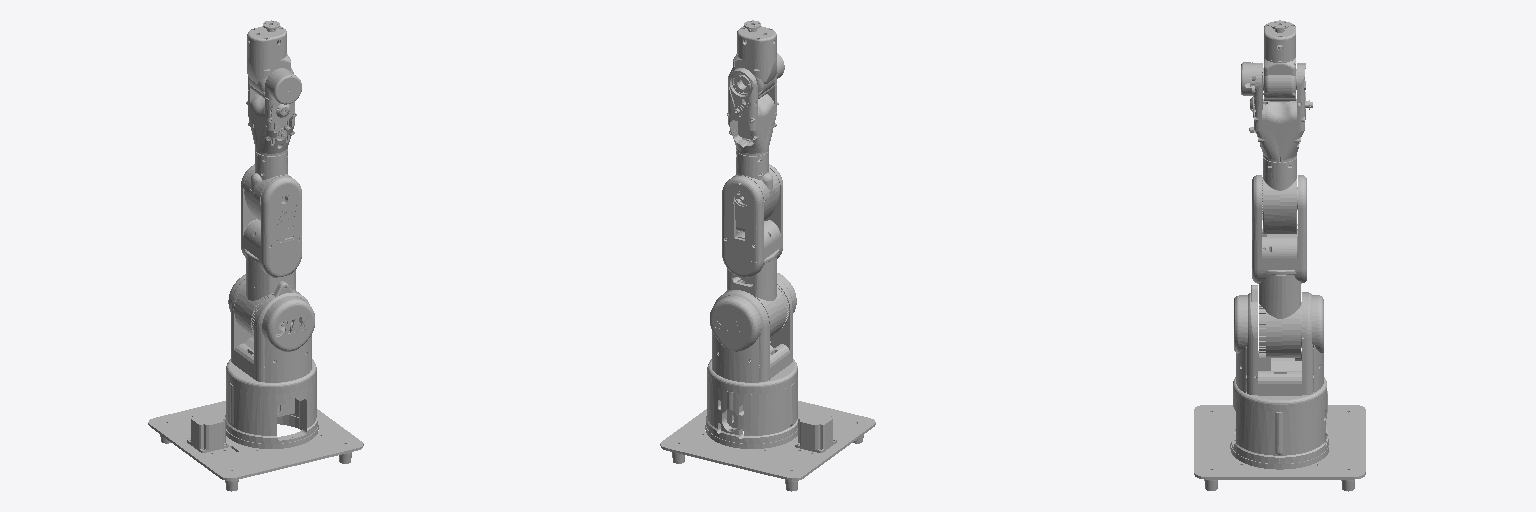
The robot description file, URDF, robot "tgr_arm":
<?xml version="1.0"?>
<robot name="tgr_arm">
    <link name="link0">
        <visual>
            <origin xyz="0 0 0" rpy="0 0 0.078" />
            <geometry>
                <mesh filename="package://tgr_arm_description/meshes/link0.STL" />
            </geometry>
            <material name="gray">
                <color rgba="0.75 0.75 0.75 1"/>
            </material>
        </visual>
        <collision>
            <origin xyz="0 0 0" rpy="0 0 0.078" />
            <geometry>
                <mesh filename="package://tgr_arm_description/meshes/link0.STL" />
            </geometry>
        </collision>
    </link>

    <joint name="joint0" type="revolute">
        <origin xyz="0 0 0" rpy="0 0 0"/>
        <axis xyz="0 0 1"/>
        <limit lower="-3.1415926" upper="3.1415926" effort="100" velocity="1.5708" />
        <parent link="link0"/>
        <child link="link1"/>
    </joint>

    <link name="link1">
        <visual>
            <origin xyz="0 0 0" rpy="0 0 0" />
            <geometry>
                <mesh filename="package://tgr_arm_description/meshes/link1.STL" />
            </geometry>
            <material name="gray">
                <color rgba="0.75 0.75 0.75 1"/>
            </material>
        </visual>
        <collision>
            <origin xyz="0 0 0" rpy="0 0 0" />
            <geometry>
                <mesh filename="package://tgr_arm_description/meshes/link1.STL" />
            </geometry>
        </collision>
    </link>

    
    <joint name="joint1" type="revolute">
        <origin xyz="0 0 0.2609" rpy="0 0 0"/>
        <axis xyz="0 1 0"/>
        <limit lower="-3.1415926" upper="3.1415926" effort="100" velocity="1.5708" />
        <parent link="link1"/>
        <child link="link2"/>
    </joint>

    <link name="link2">
        <visual>
            <origin xyz="0 0.0032 0" rpy="1.5708 0 0" />
            <geometry>
                <mesh filename="package://tgr_arm_description/meshes/link2.STL" />
            </geometry>
            <material name="gray">
                <color rgba="0.75 0.75 0.75 1"/>
            </material>
        </visual>
        <collision>
            <origin xyz="0 0.0032 0" rpy="1.5708 0 0" />
            <geometry>
                <mesh filename="package://tgr_arm_description/meshes/link2.STL" />
            </geometry>
        </collision>
    </link>
    

    <joint name="joint2" type="revolute">
        <origin xyz="0 0 0.245" rpy="0 0 0"/>
        <axis xyz="0 1 0"/>
        <limit lower="-3.1415926" upper="3.1415926" effort="100" velocity="1.5708" />
        <parent link="link2"/>
        <child link="link3"/>
    </joint>

    <link name="link3">
        <visual>
            <origin xyz="0 0 0" rpy="1.5708 -1.5968 0" />
            <geometry>
                <mesh filename="package://tgr_arm_description/meshes/link3.STL" />
            </geometry>
            <material name="gray">
                <color rgba="0.75 0.75 0.75 1"/>
            </material>
        </visual>
        <collision>
            <origin xyz="0 0 0" rpy="1.5708 -1.5968 0" />
            <geometry>
                <mesh filename="package://tgr_arm_description/meshes/link3.STL" />
            </geometry>
        </collision>
    </link>

    <joint name="joint3" type="revolute">
        <origin xyz="0 0 0.085" rpy="0 0 0"/>
        <axis xyz="0 0 1"/>
        <limit lower="-3.1415926" upper="3.1415926" effort="100" velocity="1.5708" />
        <parent link="link3"/>
        <child link="link4"/>
    </joint>

    <!-- <joint name="joint3" type="revolute">
        <origin xyz="0.085 0 0" rpy="0 0 0"/>
        <axis xyz="1 0 0"/>
        <limit lower="-3.1415926" upper="3.1415926" effort="100" velocity="1.5708" />
        <parent link="link3"/>
        <child link="link4"/>
    </joint> -->

    <link name="link4">
        <visual>
            <origin xyz="0  0 0.145" rpy="0 0 3.1415926" />
            <geometry>
                <mesh filename="package://tgr_arm_description/meshes/link4.STL" />
            </geometry>
            <material name="gray">
                <color rgba="0.75 0.75 0.75 1"/>
            </material>
        </visual>
        <collision>
            <origin xyz="0 0 0.145" rpy="0 0 3.1415926" />
            <geometry>
                <mesh filename="package://tgr_arm_description/meshes/link4.STL" />
            </geometry>
        </collision>
    </link>



    <joint name="joint4" type="revolute">
        <origin xyz="0 0 0.145" rpy="0 0 0"/>
        <axis xyz="0 1 0"/>
        <limit lower="-3.1415926" upper="3.1415926" effort="100" velocity="1.5708" />
        <parent link="link4"/>
        <child link="link5"/>
    </joint>


    <link name="link5">
        <visual>
            <origin xyz="0 0 0" rpy="1.5708 3.1415926 0" />
            <geometry>
                <mesh filename="package://tgr_arm_description/meshes/link5.STL" />
            </geometry>
            <material name="gray">
                <color rgba="0.75 0.75 0.75 1"/>
            </material>
        </visual>
        <collision>
            <origin xyz="0 0 0" rpy="1.5708 3.1415926 0" />
            <geometry>
                <mesh filename="package://tgr_arm_description/meshes/link5.STL" />
            </geometry>
        </collision>
    </link>


    <joint name="joint5" type="revolute">
        <origin xyz="0 0 0.11" rpy="0 0 0"/>
        <axis xyz="0 0 1"/>
        <limit lower="-3.1415926" upper="3.1415926" effort="100" velocity="1.5708" />
        <parent link="link5"/>
        <child link="link6"/>
    </joint>

    <link name="link6">
        <visual>
            <origin xyz="0 0 0" rpy="0 0 0.7854" />
            <geometry>
                <mesh filename="package://tgr_arm_description/meshes/link6.STL" />
            </geometry>
            <material name="gray">
                <color rgba="0.75 0.75 0.75 1"/>
            </material>
        </visual>
        <collision>
            <origin xyz="0 0 0" rpy="0 0 0.7854" />
            <geometry>
                <mesh filename="package://tgr_arm_description/meshes/link6.STL" />
            </geometry>
        </collision>
    </link> -->




<!--
    <link name="kinect_link">
        <visual>
            <origin xyz="0 0.016  0" rpy="-1.5708 0 3.1415926"/>
            <geometry>
                <mesh filename="package://tgr_arm_description/meshes/kinect.dae" />
            </geometry>
        </visual>
    </link>

    <joint name="kinect_joint" type="fixed">
        <origin xyz="0.3 0.4 0.3" rpy="-1.83255 0 3.1415926"/>
        <parent link="link1"/>
        <child link="kinect_link"/>
    </joint>
-->

</robot>

--- Facts derived from the render (not from the file) ---
3 views of the same robot in one strip: view 1: azimuth 30°, elevation 25°; view 2: azimuth 150°, elevation 25°; view 3: azimuth 270°, elevation 25° (orthographic).
Model tgr_arm with 7 links and 6 joints (6 revolute), rooted at link0, posed all joints at 0.
Visible links, largest first — view 1: link1, link0, link2, link4, link5, link3; view 2: link1, link0, link2, link4, link5, link3; view 3: link1, link0, link2, link4, link3, link5.
Link boxes in pixels (x1,y1,x2,y2): link1: (225, 274, 318, 448); link0: (148, 401, 363, 491); link2: (234, 164, 301, 336); link4: (246, 68, 301, 155); link5: (247, 26, 293, 98); link3: (244, 150, 290, 220); link1: (705, 273, 798, 448); link0: (660, 401, 875, 491); link2: (722, 164, 789, 336); link4: (727, 53, 784, 155); link5: (730, 26, 776, 98); link3: (733, 150, 779, 219); link1: (1230, 285, 1328, 469); link0: (1194, 405, 1365, 491); link2: (1252, 175, 1306, 357); link4: (1241, 62, 1312, 162); link3: (1262, 157, 1297, 233); link5: (1250, 22, 1296, 101).
Size in the robot's own frame: 0.3003 by 0.3003 by 0.8575 metres.
Meshes: 7 distinct files referenced, 7 mesh visuals loaded (7 binary STL).